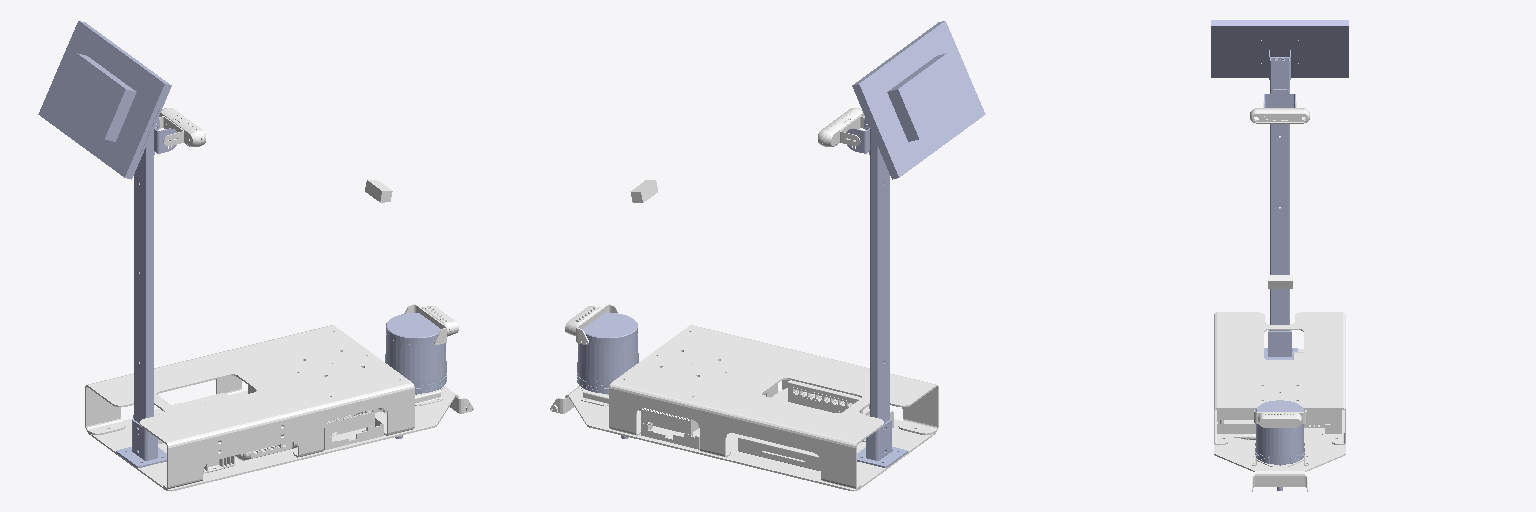
The robot description file, URDF, robot "mobile_manipulator2":
<?xml version="1.0" ?>
<!-- =================================================================================== -->
<!-- |    This document was autogenerated by xacro from urdf/mobile_manipulator2_description.xacro | -->
<!-- |    EDITING THIS FILE BY HAND IS NOT RECOMMENDED                                 | -->
<!-- =================================================================================== -->
<robot name="mobile_manipulator2">
  <link name="base_link">
    <inertial>
      <origin rpy="0 0 0" xyz="-0.0312209606413168 -1.37168643094102E-05 -0.0624311561488474"/>
      <mass value="3.66600808570302"/>
      <inertia ixx="0.070830972506108" ixy="0.000423733904503755" ixz="-0.0004402307499561" iyy="0.0538747474413543" iyz="0.000250637811260168" izz="0.118808674602765"/>
    </inertial>
    <visual>
      <origin rpy="0 0 0" xyz="0 0 0"/>
      <geometry>
        <mesh filename="package://mobile_manipulator2_description/meshes/visual/chassis_base_link.STL"/>
      </geometry>
      <material name="">
        <color rgba="1 1 1 1"/>
      </material>
    </visual>
    <collision>
      <origin rpy="0 0 0" xyz="0 0 0"/>
      <geometry>
        <mesh filename="package://mobile_manipulator2_description/meshes/visual/chassis_base_link.STL"/>
      </geometry>
    </collision>
  </link>
  <link name="box_Link">
    <inertial>
      <origin rpy="0 0 0" xyz="-0.0336792278049677 -0.00458080590131121 0.046046222818299"/>
      <mass value="1.96086062558564"/>
      <inertia ixx="0.00861532872920901" ixy="-0.000126429659448238" ixz="-4.57098901476866E-05" iyy="0.0243467421162108" iyz="-2.86453497285015E-05" izz="0.0322309365376531"/>
    </inertial>
    <visual>
      <origin rpy="0 0 0" xyz="0 0 0"/>
      <geometry>
        <mesh filename="package://mobile_manipulator2_description/meshes/visual/box_Link.STL"/>
      </geometry>
      <material name="">
        <color rgba="1 1 1 1"/>
      </material>
    </visual>
    <collision>
      <origin rpy="0 0 0" xyz="0 0 0"/>
      <geometry>
        <mesh filename="package://mobile_manipulator2_description/meshes/visual/box_Link.STL"/>
      </geometry>
    </collision>
  </link>
  <joint name="box_joint" type="fixed">
    <origin rpy="0 0 0" xyz="0 0 0"/>
    <parent link="base_link"/>
    <child link="box_Link"/>
    <axis xyz="0 0 0"/>
  </joint>
  <link name="lifting_Link">
    <inertial>
      <origin rpy="0 0 0" xyz="-0.0645758262218638 3.1034672673273E-05 0.590832686497018"/>
      <mass value="1.28345031134681"/>
      <inertia ixx="0.0137761443631695" ixy="-2.91078208048479E-07" ixz="-0.000720021739199037" iyy="0.00882953168919407" iyz="7.87382666162099E-08" izz="0.00591609424737705"/>
    </inertial>
    <visual>
      <origin rpy="0 0 0" xyz="0 0 0"/>
      <geometry>
        <mesh filename="package://mobile_manipulator2_description/meshes/visual/lifting_Link.STL"/>
      </geometry>
      <material name="">
        <color rgba="0.792156862745098 0.819607843137255 0.933333333333333 1"/>
      </material>
    </visual>
    <collision>
      <origin rpy="0 0 0" xyz="0 0 0"/>
      <geometry>
        <mesh filename="package://mobile_manipulator2_description/meshes/visual/lifting_Link.STL"/>
      </geometry>
    </collision>
  </link>
  <joint name="lifting_joint" type="fixed">
    <origin rpy="0 0 0" xyz="-0.24269 0 0.022"/>
    <parent link="box_Link"/>
    <child link="lifting_Link"/>
    <axis xyz="0 0 0"/>
  </joint>
  <link name="top_camera_Link">
    <inertial>
      <origin rpy="0 0 0" xyz="0.0081944 0.00022525 0.00024018"/>
      <mass value="0.028999"/>
      <inertia ixx="3.8589E-05" ixy="-1.3619E-08" ixz="-2.6151E-08" iyy="3.7635E-06" iyz="2.7688E-08" izz="3.7044E-05"/>
    </inertial>
    <visual>
      <origin rpy="0 0 0" xyz="0 0 0"/>
      <geometry>
        <mesh filename="package://mobile_manipulator2_description/meshes/visual/top_camera_Link.STL"/>
      </geometry>
      <material name="">
        <color rgba="1 1 1 1"/>
      </material>
    </visual>
    <collision>
      <origin rpy="0 0 0" xyz="0 0 0"/>
      <geometry>
        <mesh filename="package://mobile_manipulator2_description/meshes/visual/top_camera_Link.STL"/>
      </geometry>
    </collision>
  </link>
  <joint name="top_camera_joint" type="fixed">
    <origin rpy="0 0 0" xyz="0.056999999999981 0 0.569500339851353"/>
    <parent link="lifting_Link"/>
    <child link="top_camera_Link"/>
    <axis xyz="0 0 0"/>
  </joint>
  <link name="lidar_Link">
    <inertial>
      <origin rpy="0 0 0" xyz="-0.010562 -0.00043095 0.033917"/>
      <mass value="0.11388"/>
      <inertia ixx="0.0001253" ixy="1.1158E-07" ixz="3.3459E-07" iyy="0.00012408" iyz="-2.6657E-08" izz="0.00019563"/>
    </inertial>
    <visual>
      <origin rpy="0 0 0" xyz="0 0 0"/>
      <geometry>
        <mesh filename="package://mobile_manipulator2_description/meshes/visual/lidar_Link.STL"/>
      </geometry>
      <material name="">
        <color rgba="0.78824 0.81961 0.92941 1"/>
      </material>
    </visual>
    <collision>
      <origin rpy="0 0 0" xyz="0 0 0"/>
      <geometry>
        <mesh filename="package://mobile_manipulator2_description/meshes/visual/lidar_Link.STL"/>
      </geometry>
    </collision>
  </link>
  <joint name="lidar_joint" type="fixed">
    <origin rpy="0 0 0" xyz="0.27254 0.00035292 0.0315"/>
    <parent link="base_link"/>
    <child link="lidar_Link"/>
    <axis xyz="0 0 0"/>
  </joint>
  <link name="under_camera_Link">
    <inertial>
      <origin rpy="0 0 0" xyz="0.0088456 0.00020043 0.1203575"/>
      <mass value="0.055353"/>
      <inertia ixx="4.2284E-05" ixy="2.4484E-07" ixz="-6.627E-08" iyy="4.8492E-06" iyz="-2.9109E-09" izz="4.2122E-05"/>
    </inertial>
    <visual>
      <origin rpy="0 0 0" xyz="0 0 0"/>
      <geometry>
        <mesh filename="package://mobile_manipulator2_description/meshes/visual/under_camera_Link.STL"/>
      </geometry>
      <material name="">
        <color rgba="1 1 1 1"/>
      </material>
    </visual>
    <collision>
      <origin rpy="0 0 0" xyz="0 0 0"/>
      <geometry>
        <mesh filename="package://mobile_manipulator2_description/meshes/visual/under_camera_Link.STL"/>
      </geometry>
    </collision>
  </link>
  <joint name="under_camera_joint" type="fixed">
    <origin rpy="0 0 0" xyz="0.025 0 0.1"/>
    <parent link="lidar_Link"/>
    <child link="under_camera_Link"/>
    <axis xyz="0 0 0"/>
  </joint>
  <link name="arm_base">
    <inertial>
      <origin rpy="0 0 0" xyz="-0.00979274765955341 1.82905827587138E-06 0.0410100126360189"/>
      <mass value="0.162548567403693"/>
      <inertia ixx="0.000226596924525071" ixy="-7.33972270153965E-08" ixz="2.13249977802622E-06" iyy="0.000269444772561524" iyz="8.15169009611054E-09" izz="0.000222318258878636"/>
    </inertial>
    <visual>
      <origin rpy="0 0 0" xyz="0 0 0"/>
      <geometry>
        <mesh filename="package://mobile_manipulator2_description/meshes/visual/dae/piper_base_link.dae"/>
      </geometry>
      <material name="">
        <color rgba="0.792156862745098 0.819607843137255 0.933333333333333 1"/>
      </material>
    </visual>
    <collision>
      <origin rpy="0 0 0" xyz="0 0 0"/>
      <geometry>
        <mesh filename="package://mobile_manipulator2_description/meshes/visual/piper_base_link.STL"/>
      </geometry>
    </collision>
  </link>
  <link name="link1">
    <inertial>
      <origin rpy="0 0 0" xyz="0.00131676031927024 0.000310288842008612 -0.00922874512303437"/>
      <mass value="0.0978679932242825"/>
      <inertia ixx="7.76684558296782E-05" ixy="1.09084650459924E-07" ixz="-1.9748053243241E-06" iyy="9.24967780161547E-05" iyz="9.91284646834582E-07" izz="8.24589062407807E-05"/>
    </inertial>
    <visual>
      <origin rpy="0 0 0" xyz="0 0 0"/>
      <geometry>
        <mesh filename="package://mobile_manipulator2_description/meshes/visual/dae/piper_link1.dae"/>
      </geometry>
      <material name="">
        <color rgba="0.792156862745098 0.819607843137255 0.933333333333333 1"/>
      </material>
    </visual>
    <collision>
      <origin rpy="0 0 1.5708" xyz="0 0 0"/>
      <geometry>
        <mesh filename="package://mobile_manipulator2_description/meshes/visual/link1.STL"/>
      </geometry>
    </collision>
  </link>
  <joint name="joint1" type="revolute">
    <origin rpy="0 0 -1.5708" xyz="0 0 0.123"/>
    <parent link="arm_base"/>
    <child link="link1"/>
    <axis xyz="0 0 1"/>
    <limit effort="100" lower="-2.687" upper="2.687" velocity="3.142"/>
  </joint>
  <link name="link2">
    <inertial>
      <origin rpy="0 0 0" xyz="0.148793602378802 -0.00242026983944119 0.00175154638467948"/>
      <mass value="0.290888938633388"/>
      <inertia ixx="0.000148959640166183" ixy="-7.37750384371657E-05" ixz="-9.68688405196236E-07" iyy="0.00172800946632652" iyz="-1.09692225564224E-06" izz="0.0017754628344594"/>
    </inertial>
    <visual>
      <origin rpy="0 0 0" xyz="0 0 0"/>
      <geometry>
        <mesh filename="package://mobile_manipulator2_description/meshes/visual/dae/piper_link2.dae"/>
      </geometry>
      <material name="">
        <color rgba="0.792156862745098 0.819607843137255 0.933333333333333 1"/>
      </material>
    </visual>
    <collision>
      <origin rpy="0 0 0.1" xyz="0 0 0"/>
      <geometry>
        <mesh filename="package://mobile_manipulator2_description/meshes/visual/link2.STL"/>
      </geometry>
    </collision>
  </link>
  <joint name="joint2" type="revolute">
    <origin rpy="1.5708 -0.034907 -1.5708" xyz="0 0 0"/>
    <parent link="link1"/>
    <child link="link2"/>
    <axis xyz="0 0 1"/>
    <limit effort="100" lower="0" upper="3.403" velocity="3.403"/>
  </joint>
  <link name="link3">
    <inertial>
      <origin rpy="0 0 0" xyz="-0.0996835215213704 0.0349477226691318 0.000508025815507312"/>
      <mass value="0.290847697793211"/>
      <inertia ixx="0.000107879011637167" ixy="2.92669521203626E-05" ixz="6.825922326238E-07" iyy="0.000214751671792086" iyz="-7.78469047878196E-07" izz="0.000241923439340319"/>
    </inertial>
    <visual>
      <origin rpy="0 0 0" xyz="0 0 0"/>
      <geometry>
        <mesh filename="package://mobile_manipulator2_description/meshes/visual/dae/piper_link3.dae"/>
      </geometry>
      <material name="">
        <color rgba="0.792156862745098 0.819607843137255 0.933333333333333 1"/>
      </material>
    </visual>
    <collision>
      <origin rpy="0 0 -1.75" xyz="0 0 0"/>
      <geometry>
        <mesh filename="package://mobile_manipulator2_description/meshes/visual/link3.STL"/>
      </geometry>
    </collision>
  </link>
  <joint name="joint3" type="revolute">
    <origin rpy="0 0 0.06604341" xyz="0.28358 0.028726 0"/>
    <parent link="link2"/>
    <child link="link3"/>
    <axis xyz="0 0 1"/>
    <limit effort="100" lower="-3.054" upper="0" velocity="3.142"/>
  </joint>
  <link name="link4">
    <inertial>
      <origin rpy="0 0 0" xyz="0.000276464622387979 -0.00102803669324875 -0.00472830700561663"/>
      <mass value="0.127087348341362"/>
      <inertia ixx="3.82011730423416E-05" ixy="-4.92358350897513E-08" ixz="4.89589432973119E-08" iyy="4.87048555222578E-05" iyz="6.70802942500512E-08" izz="4.10592077565559E-05"/>
    </inertial>
    <visual>
      <origin rpy="0 0 0" xyz="0 0 0"/>
      <geometry>
        <mesh filename="package://mobile_manipulator2_description/meshes/visual/dae/piper_link4.dae"/>
      </geometry>
      <material name="">
        <color rgba="0.792156862745098 0.819607843137255 0.933333333333333 1"/>
      </material>
    </visual>
    <collision>
      <origin rpy="0 0 0" xyz="0 0 0"/>
      <geometry>
        <mesh filename="package://mobile_manipulator2_description/meshes/visual/link4.STL"/>
      </geometry>
    </collision>
  </link>
  <joint name="joint4" type="revolute">
    <origin rpy="-1.5708 0 1.3826" xyz="-0.24221 0.068514 0"/>
    <parent link="link3"/>
    <child link="link4"/>
    <axis xyz="0 0 1"/>
    <limit effort="100" lower="-1.780" upper="1.780" velocity="3.927"/>
  </joint>
  <link name="link5">
    <inertial>
      <origin rpy="0 0 0" xyz="8.82262433516967E-05 0.0566829014808256 -0.00196119720482461"/>
      <mass value="0.144711242639457"/>
      <inertia ixx="4.39644313662493E-05" ixy="-3.59259686444846E-08" ixz="-1.89747741386183E-08" iyy="5.63173920951307E-05" iyz="-2.1540716689785E-07" izz="4.88713664675268E-05"/>
    </inertial>
    <visual>
      <origin rpy="0 0 0" xyz="0 0 0"/>
      <geometry>
        <mesh filename="package://mobile_manipulator2_description/meshes/visual/dae/piper_link5.dae"/>
      </geometry>
      <material name="">
        <color rgba="0.792156862745098 0.819607843137255 0.933333333333333 1"/>
      </material>
    </visual>
    <collision>
      <origin rpy="0 0 -3.14" xyz="0 0 0"/>
      <geometry>
        <mesh filename="package://mobile_manipulator2_description/meshes/visual/link5.STL"/>
      </geometry>
    </collision>
  </link>
  <joint name="joint5" type="revolute">
    <origin rpy="1.5708 0 0" xyz="0 0 0"/>
    <parent link="link4"/>
    <child link="link5"/>
    <axis xyz="0 0 1"/>
    <limit effort="100" lower="-1.309" upper="1.309" velocity="3.927"/>
  </joint>
  <link name="link6">
    <inertial>
      <origin rpy="0 0 0" xyz="0.00103120214523473 0.0121761387587524 0.0315480874960164"/>
      <mass value="0.195187143240719"/>
      <inertia ixx="6.43790256535539E-05" ixy="-1.2366166157046E-06" ixz="1.97664606328472E-07" iyy="0.000126146396374301" iyz="2.41157078516408E-06" izz="0.000154087076816444"/>
    </inertial>
    <visual>
      <origin rpy="-1.57 0 0" xyz="-0.002 -0.008 0"/>
      <geometry>
        <mesh filename="package://mobile_manipulator2_description/meshes/visual/dae/piper_camera_v3.dae"/>
      </geometry>
      <material name="">
        <color rgba="0.792156862745098 0.819607843137255 0.933333333333333 1"/>
      </material>
    </visual>
    <collision>
      <origin rpy="-1.57 0 0" xyz="-0.002 -0.008 0"/>
      <geometry>
        <mesh filename="package://mobile_manipulator2_description/meshes/visual/dae/piper_camera_v3.dae"/>
      </geometry>
    </collision>
  </link>
  <joint name="joint6" type="revolute">
    <origin rpy="-1.5708 -1.5708 0" xyz="0 0.091 0.0014165"/>
    <parent link="link5"/>
    <child link="link6"/>
    <axis xyz="0 0 1"/>
    <limit effort="100" lower="-2.094" upper="2.094" velocity="3.927"/>
  </joint>
  <link name="link7">
    <inertial>
      <origin rpy="0 0 0" xyz="-0.000277778383727112 -0.0467673043650824 -0.00921029491873201"/>
      <mass value="0.02648229234527"/>
      <inertia ixx="9.99787479924589E-06" ixy="-1.57548495096104E-07" ixz="-2.71342775003487E-08" iyy="6.1795212293655E-06" iyz="-1.58939803580081E-06" izz="1.42102717246564E-05"/>
    </inertial>
    <visual>
      <origin rpy="0 0 0" xyz="0 0 0"/>
      <geometry>
        <mesh filename="package://mobile_manipulator2_description/meshes/visual/dae/piper_link7.dae"/>
      </geometry>
      <material name="">
        <color rgba="0.792156862745098 0.819607843137255 0.933333333333333 1"/>
      </material>
    </visual>
    <collision>
      <origin rpy="0 3.14 0" xyz="-0.001 0 0.0003"/>
      <geometry>
        <mesh filename="package://mobile_manipulator2_description/meshes/visual/link7.STL"/>
      </geometry>
    </collision>
  </link>
  <joint name="joint7" type="prismatic">
    <origin rpy="1.5708 0 1.5708" xyz="0 0 0.13503"/>
    <parent link="link6"/>
    <child link="link7"/>
    <axis xyz="0 0 -1"/>
    <limit effort="10" lower="0" upper="0.05" velocity="1"/>
  </joint>
  <link name="link8">
    <inertial>
      <origin rpy="0 0 0" xyz="0.000277816920932317 0.0467673824063769 -0.00921030054508036"/>
      <mass value="0.0264822021416248"/>
      <inertia ixx="9.99779119357223E-06" ixy="-1.57542283433504E-07" ixz="2.71367446701359E-08" iyy="6.17952441557932E-06" iyz="1.58939319453383E-06" izz="1.4210192754512E-05"/>
    </inertial>
    <visual>
      <origin rpy="0 0 0" xyz="0 0 0"/>
      <geometry>
        <mesh filename="package://mobile_manipulator2_description/meshes/visual/dae/piper_link8.dae"/>
      </geometry>
      <material name="">
        <color rgba="0.792156862745098 0.819607843137255 0.933333333333333 1"/>
      </material>
    </visual>
    <collision>
      <origin rpy="3.14 0 0" xyz="-0.001 0 0.0003"/>
      <geometry>
        <mesh filename="package://mobile_manipulator2_description/meshes/visual/link8.STL"/>
      </geometry>
    </collision>
  </link>
  <joint name="joint8" type="prismatic">
    <origin rpy="-1.5708 0 1.5708" xyz="0 0 0.13503"/>
    <parent link="link6"/>
    <child link="link8"/>
    <axis xyz="0 0 1"/>
    <limit effort="10" lower="-0.05" upper="0" velocity="1"/>
  </joint>
  <!-- Joint to connect the arm to the mobile base -->
  <joint name="arm_joint" type="fixed">
    <origin rpy="0.0 0.0 0.0" xyz="0.118 0 0.1"/>
    <parent link="box_Link"/>
    <child link="arm_base"/>
    <axis xyz="0.0 0.0 0.0"/>
    <limit effort="0.0" lower="0.0" upper="0.0" velocity="0.0"/>
  </joint>
  
  <!-- Hand camera link for sensor simulation -->
  <link name="hand_cam">
    <inertial>
      <origin xyz="0.0009804 0.025556 -0.036977" rpy="0 0 0" />
      <mass value="0.0067926" />
      <inertia 
        ixx="3.7811E-05"
        ixy="2.2861E-18"
        ixz="2.2446E-19"
        iyy="9.4061E-05"
        iyz="6.1172E-06"
        izz="0.00012345" />
    </inertial>
    <visual>
      <origin xyz="0 0 0" rpy="0 0 0" />
      <geometry>
        <box size="0.02 0.05 0.02"/>
      </geometry>
      <material name="">
        <color rgba="1 1 1 1" />
      </material>
    </visual>
    <collision>
      <origin xyz="0 0 0" rpy="0 1.57 0" />
      <geometry>
        <box size="0.001 0.001 0.001"/>
      </geometry>
    </collision>
  </link>

  <!-- Joint to attach hand camera to link6 -->
  <joint name="hand_camera_joint" type="fixed">
    <origin xyz="0.0 0.075 0.03" rpy="0 -0.3 1.57" />
    <parent link="link6" />
    <child link="hand_cam" />
    <axis xyz="0 0 0" />
  </joint>
</robot>

--- What the picture shows (computed from the rendered views, not written in the file) ---
The picture shows the robot from 3 angles, left to right: view 1: azimuth 30°, elevation 25°; view 2: azimuth 150°, elevation 25°; view 3: azimuth 270°, elevation 25°; orthographic projection.
Model mobile_manipulator2 with 16 links and 15 joints (6 revolute, 2 prismatic, 7 fixed), rooted at base_link, posed all joints at 0.
Links seen in each view (by area): view 1: box_Link, lifting_Link, lidar_Link, top_camera_Link, under_camera_Link; view 2: box_Link, lifting_Link, lidar_Link, top_camera_Link, under_camera_Link; view 3: box_Link, lifting_Link, lidar_Link, top_camera_Link, under_camera_Link.
Boxes of the visible links, x1,y1,x2,y2 form: box_Link: (85,325,473,491); lifting_Link: (38,21,177,467); lidar_Link: (385,313,446,438); top_camera_Link: (155,108,205,146); under_camera_Link: (404,304,458,344); box_Link: (550,325,938,491); lifting_Link: (846,21,985,467); lidar_Link: (577,313,638,438); top_camera_Link: (818,108,868,146); under_camera_Link: (565,304,618,344); box_Link: (1214,312,1345,491); lifting_Link: (1211,20,1348,359); lidar_Link: (1255,400,1304,490); top_camera_Link: (1250,102,1309,123); under_camera_Link: (1254,410,1306,427).
Bounding box of the posed robot: 0.7058 × 0.281 × 0.8115 m (x, y, z).
Meshes: 15 distinct files referenced, 5 mesh visuals loaded (5 binary STL); not drawn: 10 (reference not matched to a file when rendering).